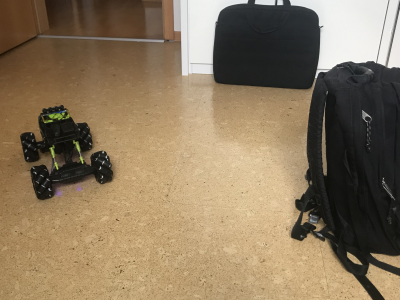remote control car: (20, 103, 115, 201)
